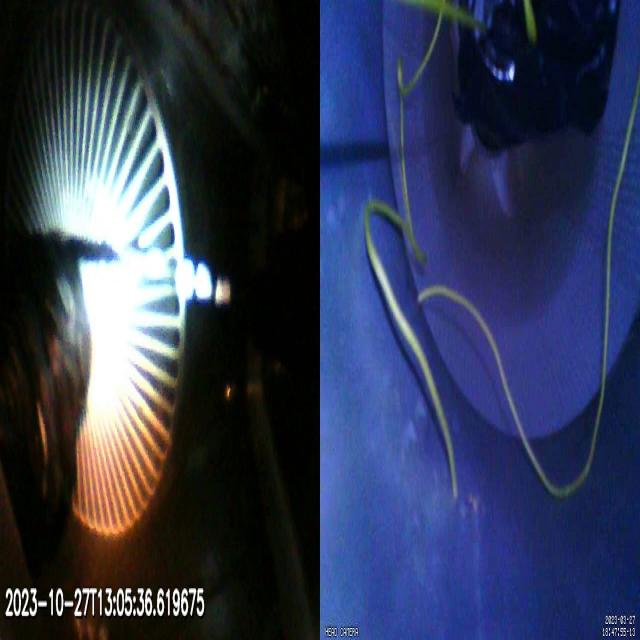white-dots: (175, 256, 230, 306)
